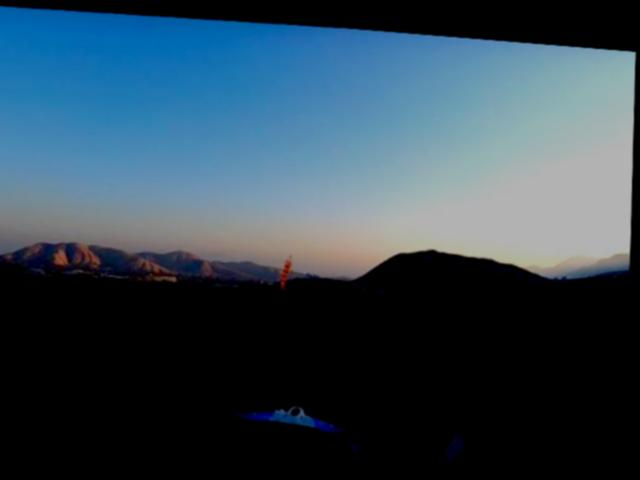iha: (235, 395, 348, 430)
